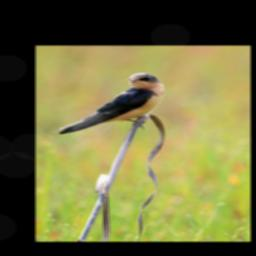Swallow: (47, 69, 165, 138)
